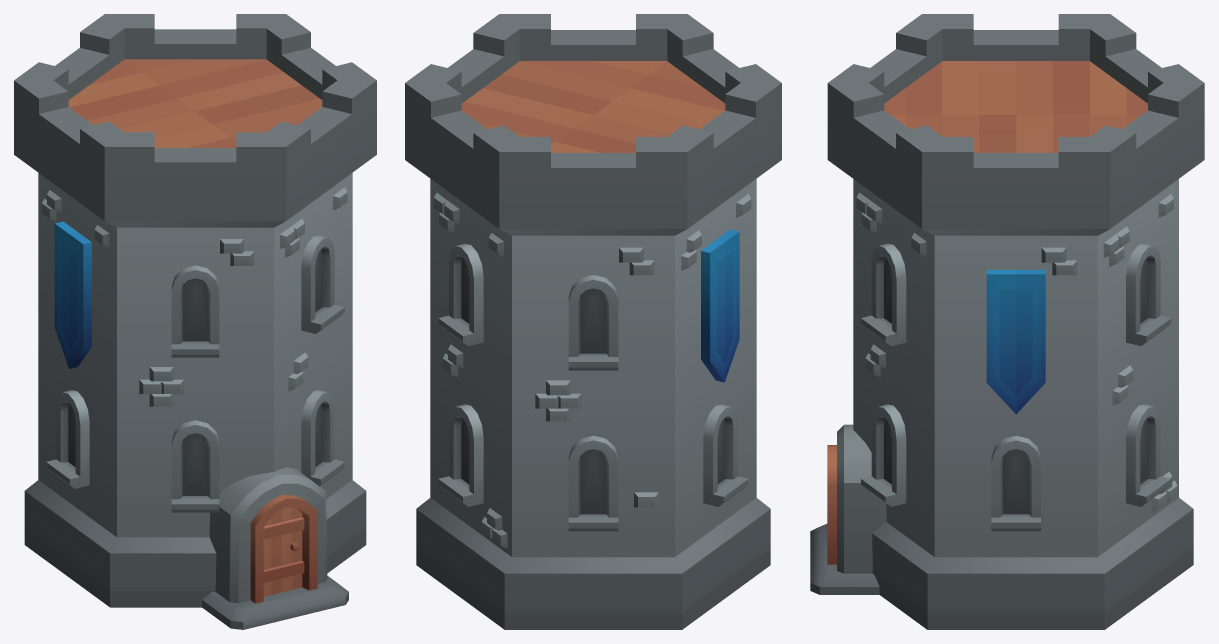
Rendered from nexus.glb.
3 views of the same model, side by side, from view 1: azimuth 30°, elevation 25°; view 2: azimuth 150°, elevation 25°; view 3: azimuth 270°, elevation 25° (orthographic). The views are drawn at different scales.
Visible parts, largest first — view 1: building_tower_base_blue; view 2: building_tower_base_blue; view 3: building_tower_base_blue.
Part boxes in pixels (x1,y1,x2,y2): building_tower_base_blue: (14, 14, 376, 629); building_tower_base_blue: (405, 14, 781, 629); building_tower_base_blue: (810, 14, 1204, 629).
Size of the model in its own units: 0.9297 by 1.5 by 1.11.
Materials: 1 (1 with a texture image).
